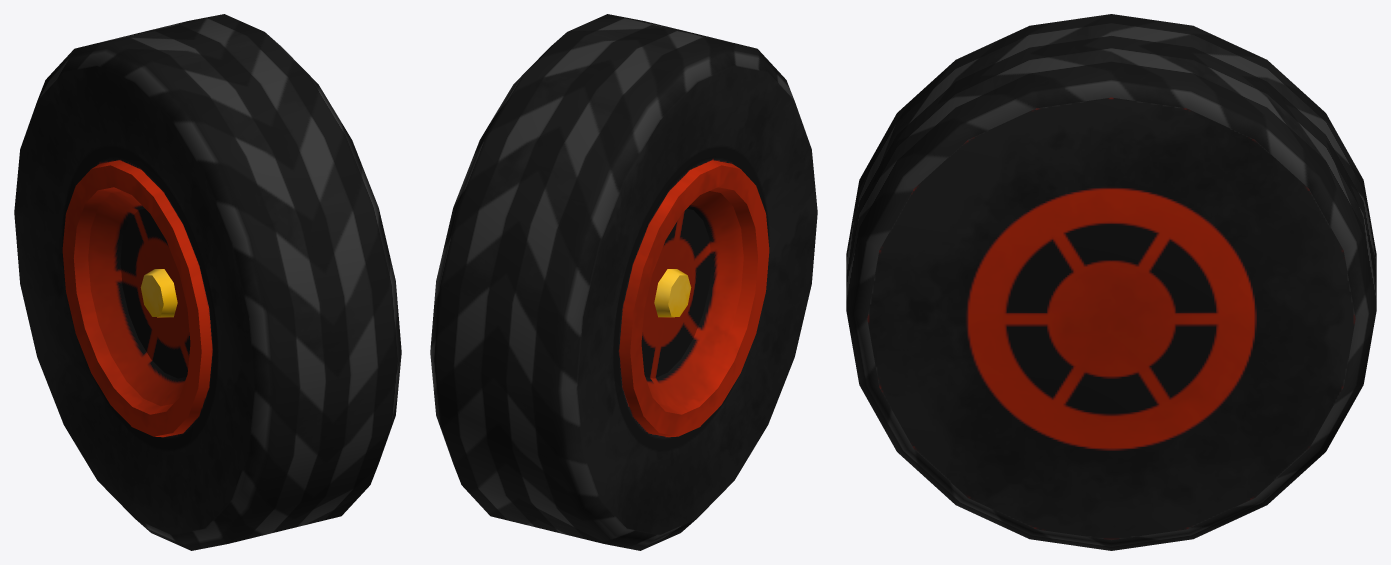
File: Wheel_Stock_Model.fbx
3 views of the same model, side by side, from view 1: azimuth 30°, elevation 25°; view 2: azimuth 150°, elevation 25°; view 3: azimuth 270°, elevation 25° (orthographic).
Parts seen in each view (by area): view 1: Wheel_Stock; view 2: Wheel_Stock; view 3: Wheel_Stock.
Boxes of the visible parts, x1,y1,x2,y2 form: Wheel_Stock: (14,14,401,550); Wheel_Stock: (430,14,817,550); Wheel_Stock: (846,14,1376,550).
Bounding box in the file's own units: 2.52 × 7.6 × 7.6.
